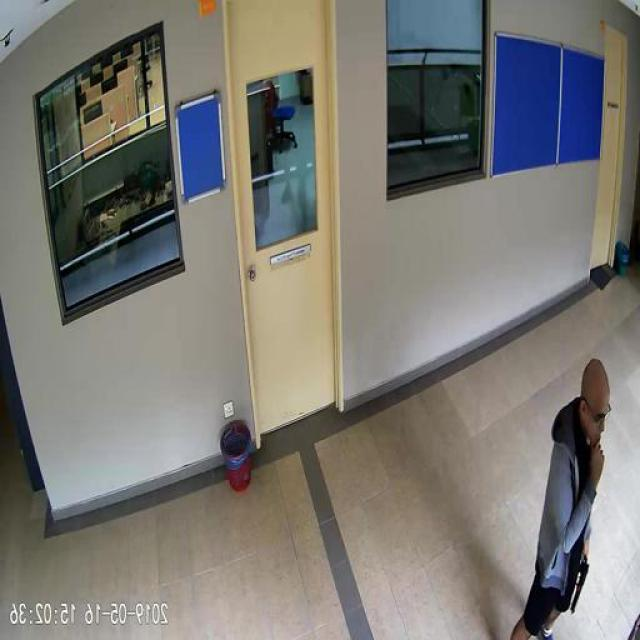Gun: (572, 554, 592, 612)
